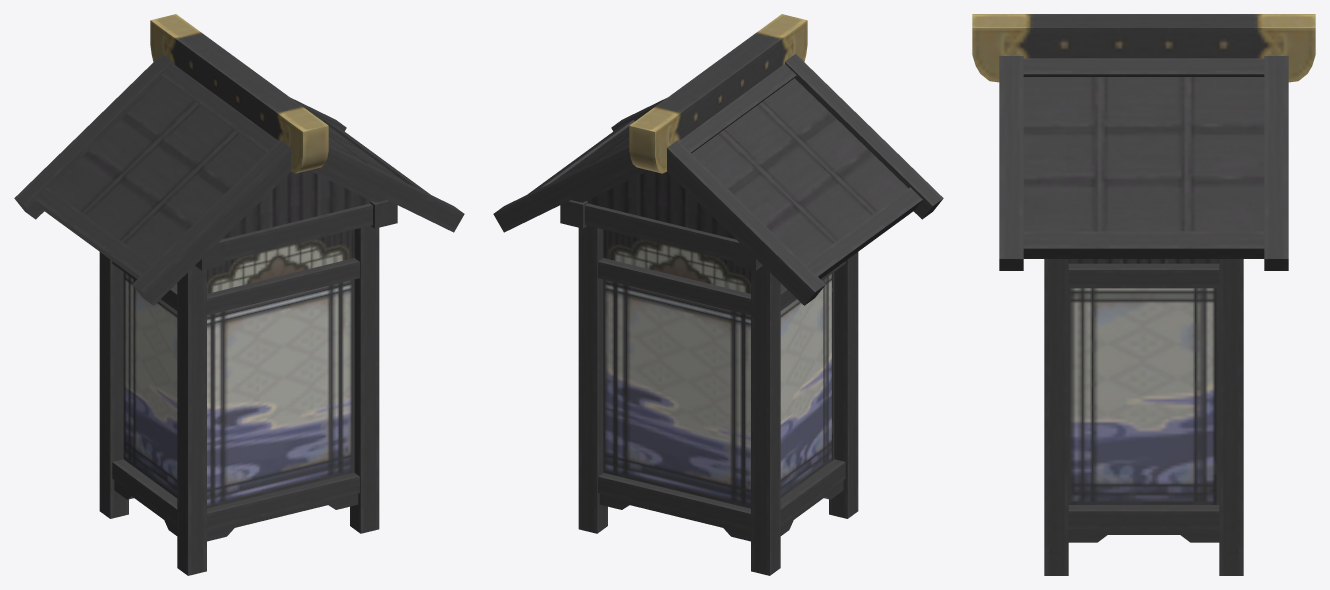
Rendered from Homeworld_Interior_Dq_Lamp_Lamp_03_Vo.fbx.
The picture shows the model from 3 angles, left to right: view 1: azimuth 30°, elevation 25°; view 2: azimuth 150°, elevation 25°; view 3: azimuth 270°, elevation 25°; orthographic projection. The views are drawn at different scales.
Visible parts, largest first — view 1: Indoor_Dq_Prop_Comp_Lamp_01_Vo; view 2: Indoor_Dq_Prop_Comp_Lamp_01_Vo; view 3: Indoor_Dq_Prop_Comp_Lamp_01_Vo.
Part boxes in pixels (x1=…): Indoor_Dq_Prop_Comp_Lamp_01_Vo: x1=14, y1=14, x2=464, y2=575; Indoor_Dq_Prop_Comp_Lamp_01_Vo: x1=493, y1=14, x2=943, y2=575; Indoor_Dq_Prop_Comp_Lamp_01_Vo: x1=972, y1=14, x2=1315, y2=575.
Bounding box in the file's own units: 1.08 × 1.43 × 0.8836.
